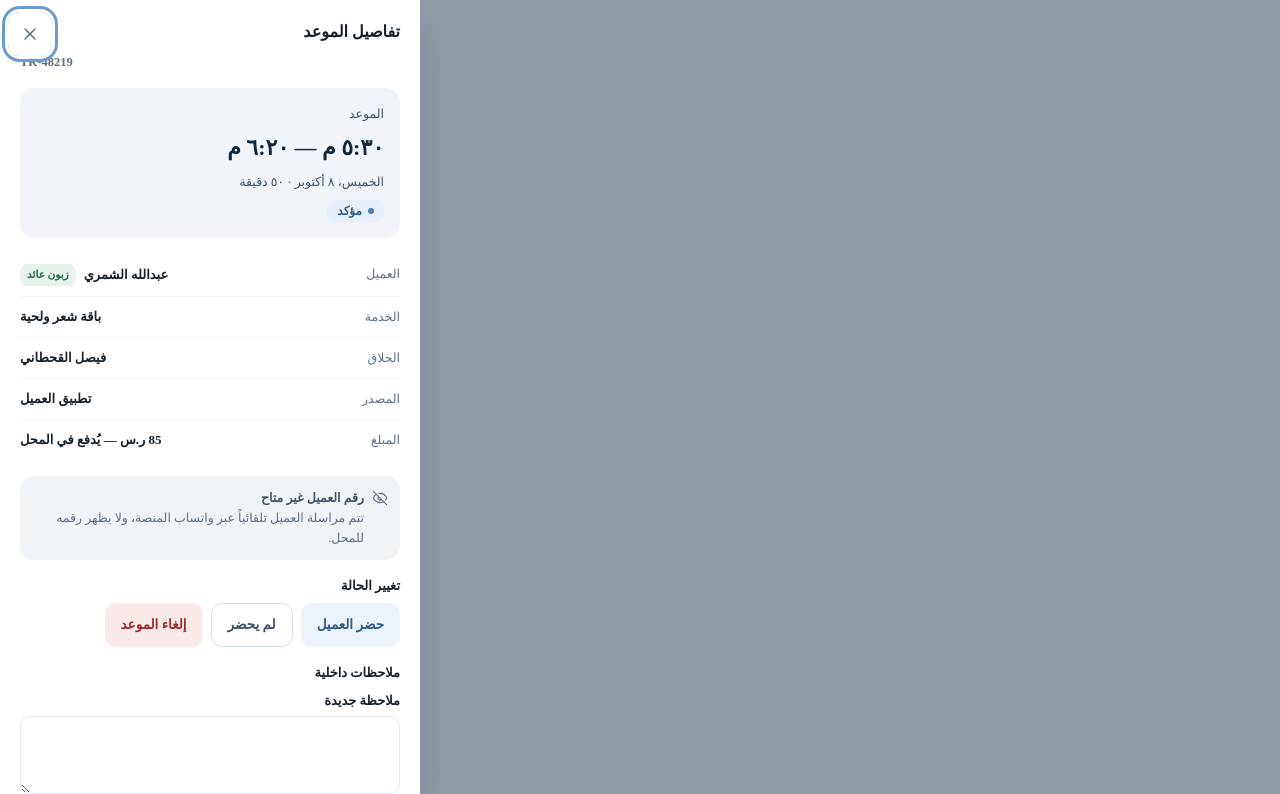
Test: AppointmentDrawer (s-appointments drawer, DV-S08) › rolls back and says so when the booking changed meanwhile (409)
Click the button "لم يحضر" at (252, 625), box [210, 603, 293, 647]
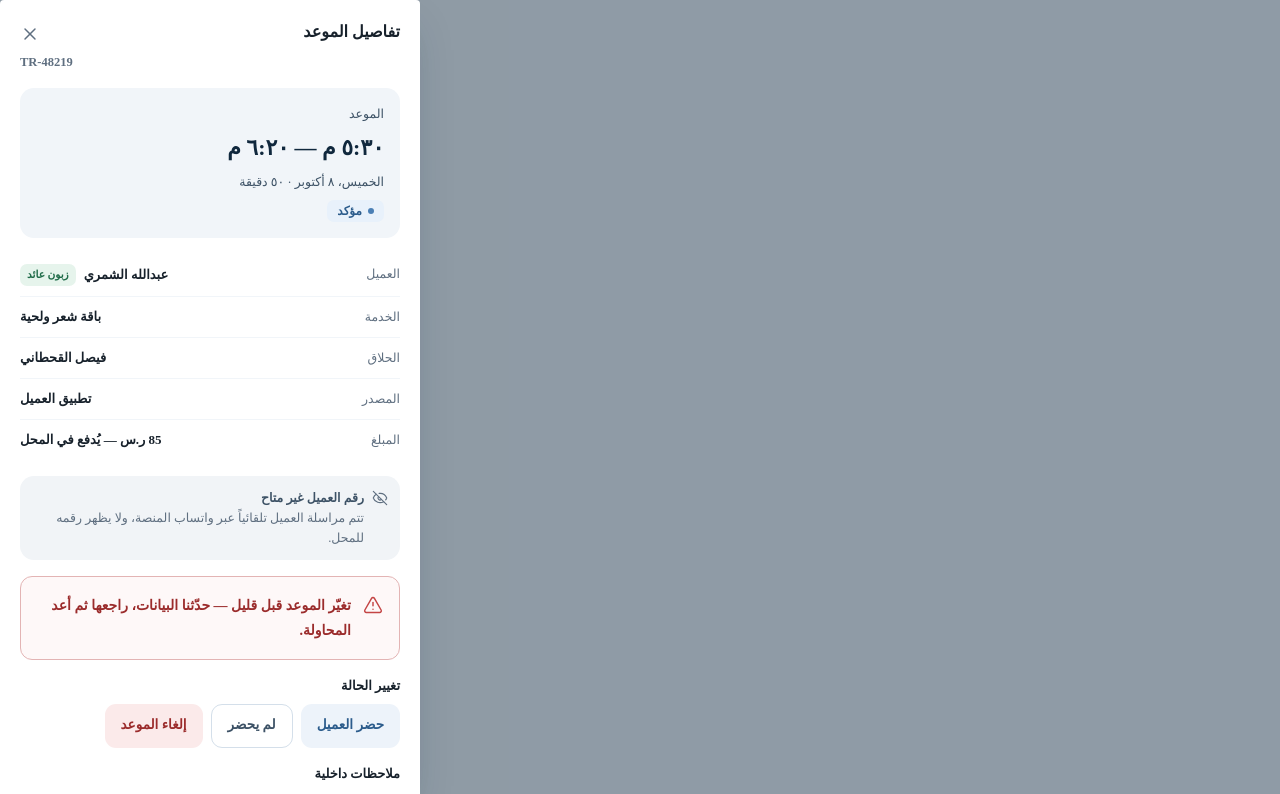
expect the button "لم يحضر" is enabled: met, box [210, 704, 293, 748]
expect the message shows "تغيّر الموعد قبل قليل": met, box [51, 598, 351, 638]
